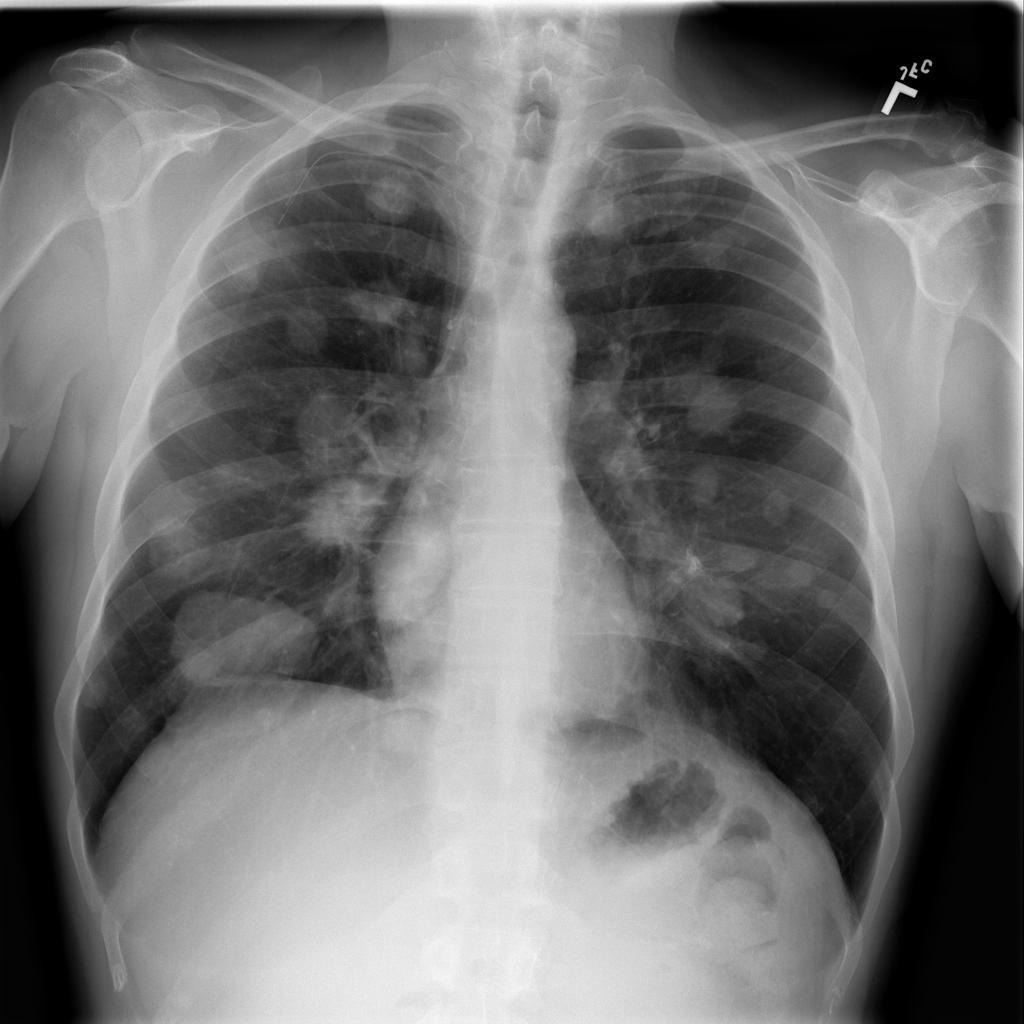nodule: (143, 584, 326, 706), (346, 496, 459, 631), (287, 456, 396, 568), (126, 488, 234, 598), (215, 212, 297, 294), (668, 365, 752, 445), (295, 393, 376, 473), (368, 696, 443, 773), (350, 163, 431, 233), (678, 208, 759, 278), (57, 647, 133, 720), (680, 562, 757, 634), (338, 270, 419, 338), (567, 177, 642, 250), (270, 293, 342, 367), (379, 314, 447, 388), (672, 448, 739, 520), (774, 547, 829, 595), (706, 532, 762, 579), (750, 484, 799, 537), (803, 576, 854, 626)
